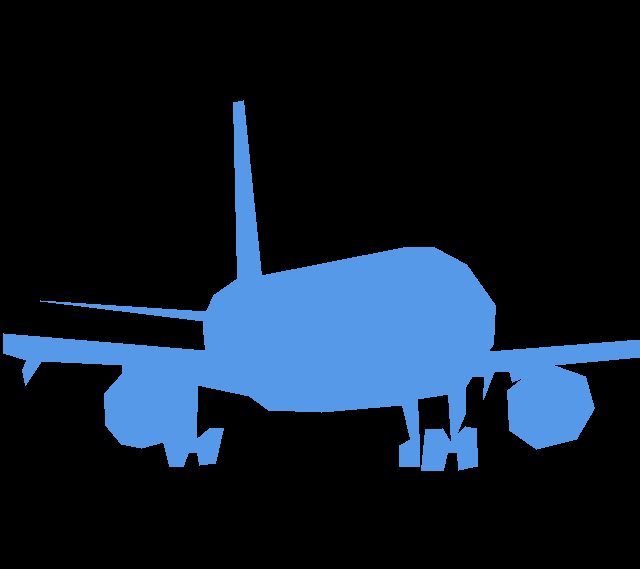Airplane: (3, 100, 640, 470)
